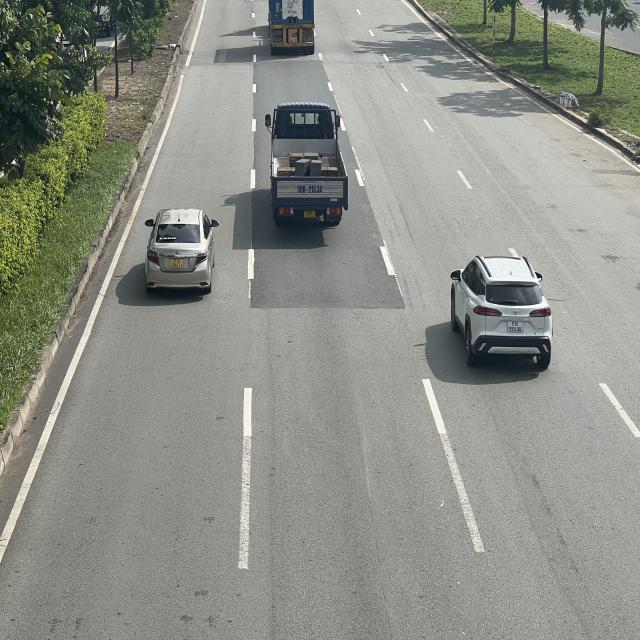car: (448, 252, 552, 369), (142, 210, 216, 295)
container: (267, 0, 316, 53)
truck: (266, 101, 348, 226)
